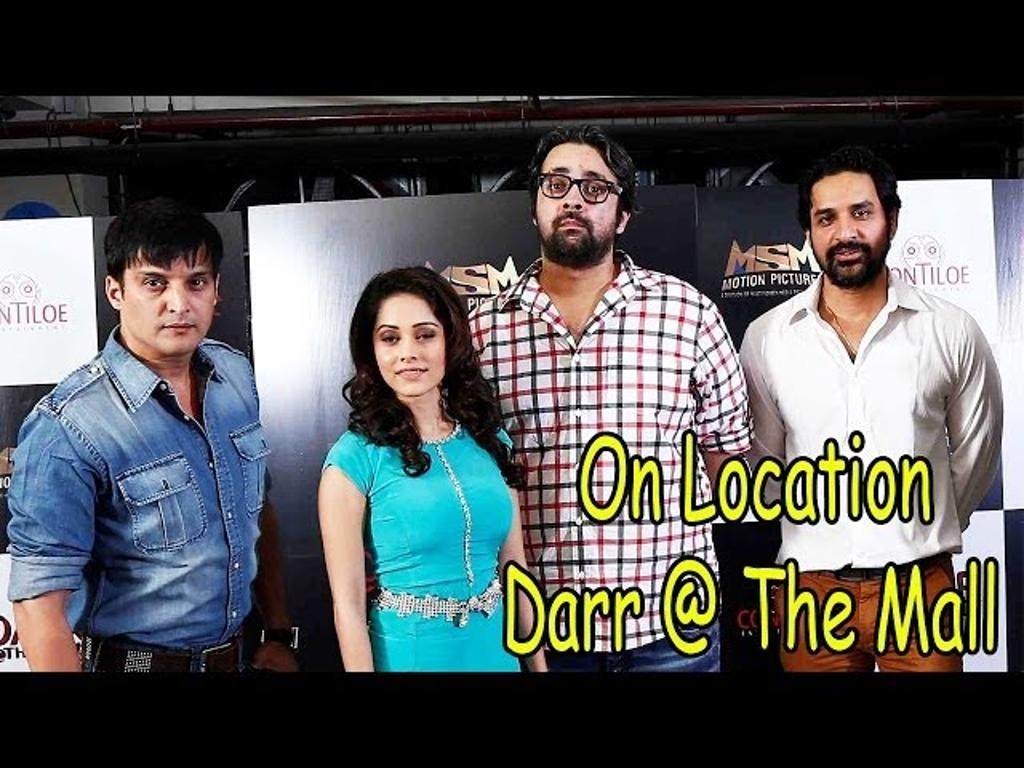face: (124, 238, 214, 352), (812, 170, 886, 280), (540, 142, 612, 252), (376, 296, 446, 396)
